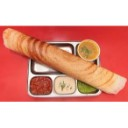dosa: (4, 25, 128, 96)
